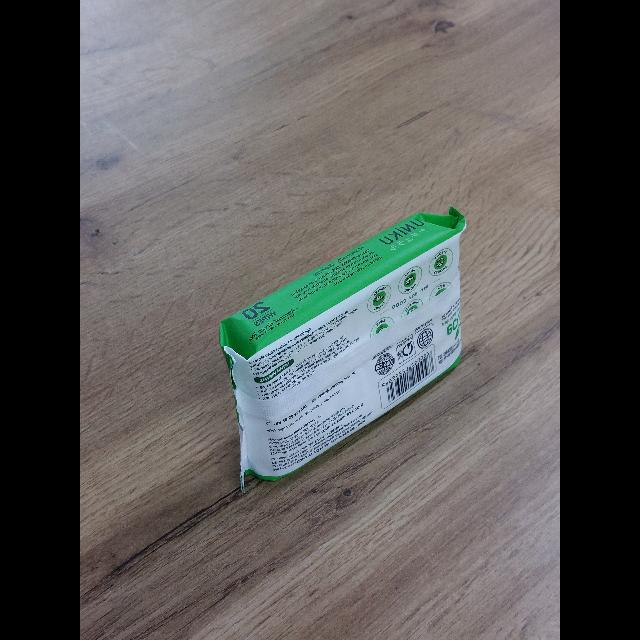khan_giay: (219, 208, 467, 492)
